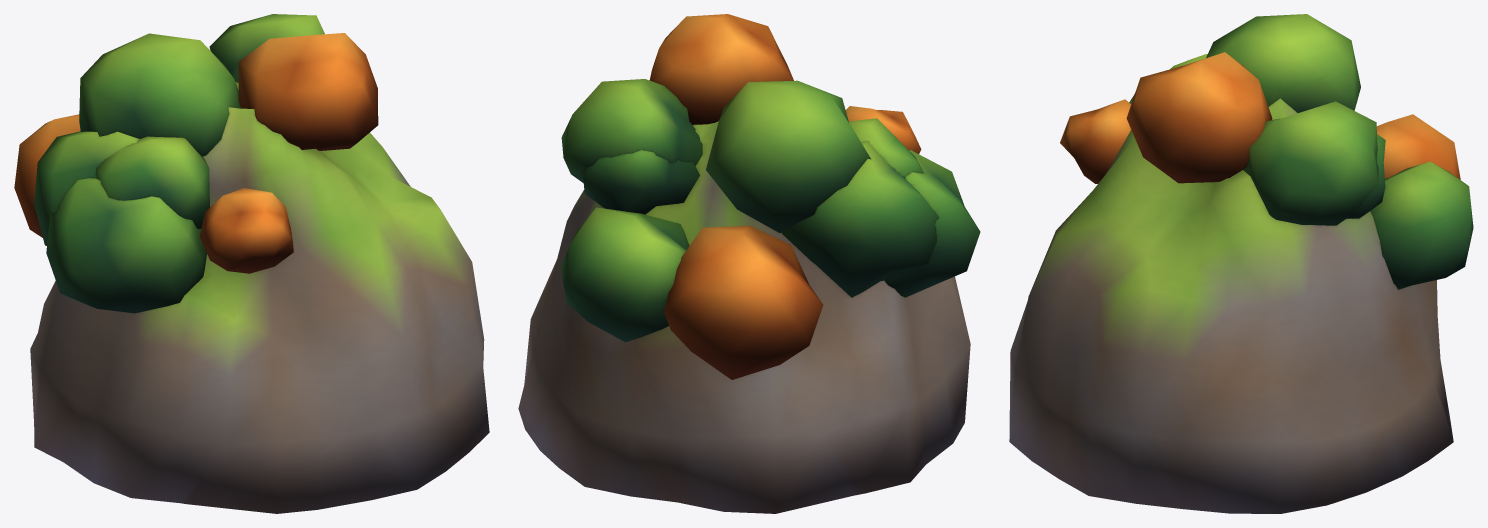
Rendered from mountain_b.glb.
The picture shows the model from 3 angles, left to right: view 1: azimuth 30°, elevation 25°; view 2: azimuth 150°, elevation 25°; view 3: azimuth 270°, elevation 25°; orthographic projection. The views are drawn at different scales.
Visible parts, largest first — view 1: mountain_b; view 2: mountain_b; view 3: mountain_b.
Part boxes in pixels (box(x1,y1,x2,y2)): mountain_b: box(14, 14, 489, 513); mountain_b: box(518, 14, 980, 513); mountain_b: box(1009, 14, 1473, 513).
Bounding box in the file's own units: 2 × 1.76 × 1.96.
1 material, 1 textured.
